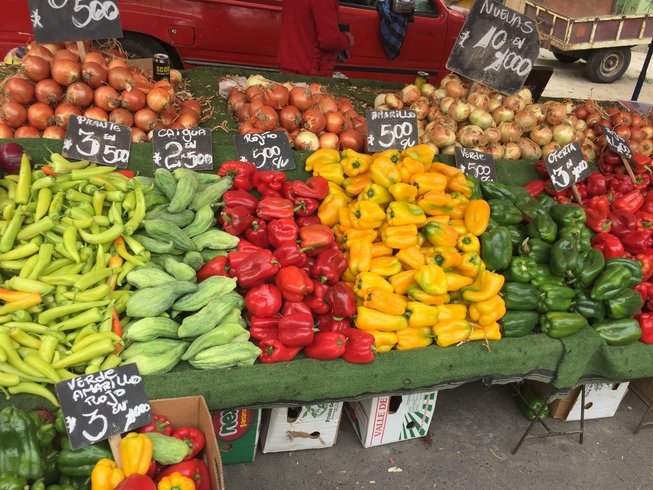precio: (50, 359, 159, 454), (453, 1, 542, 100), (54, 108, 135, 177), (21, 1, 130, 47), (232, 124, 301, 183), (150, 125, 218, 179), (362, 103, 423, 161), (538, 140, 593, 199), (453, 139, 501, 187), (600, 121, 637, 161)
